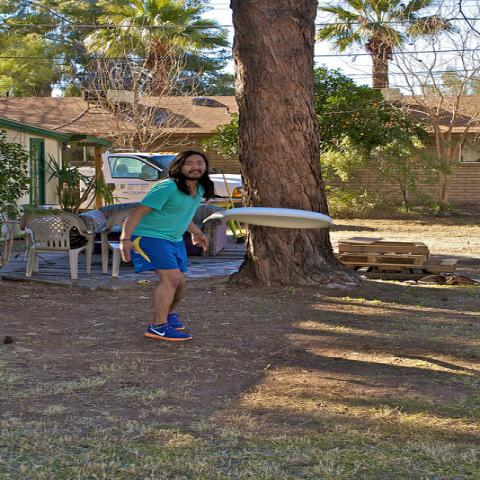truck: (56, 148, 245, 210)
